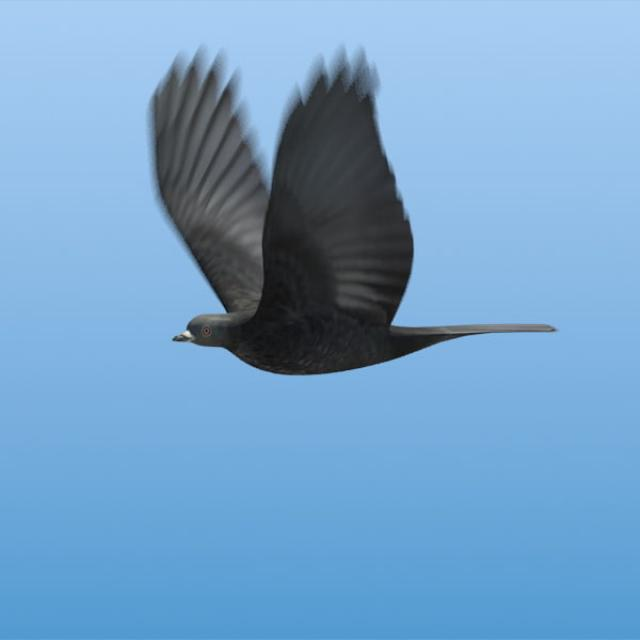bird: (131, 44, 563, 385)
